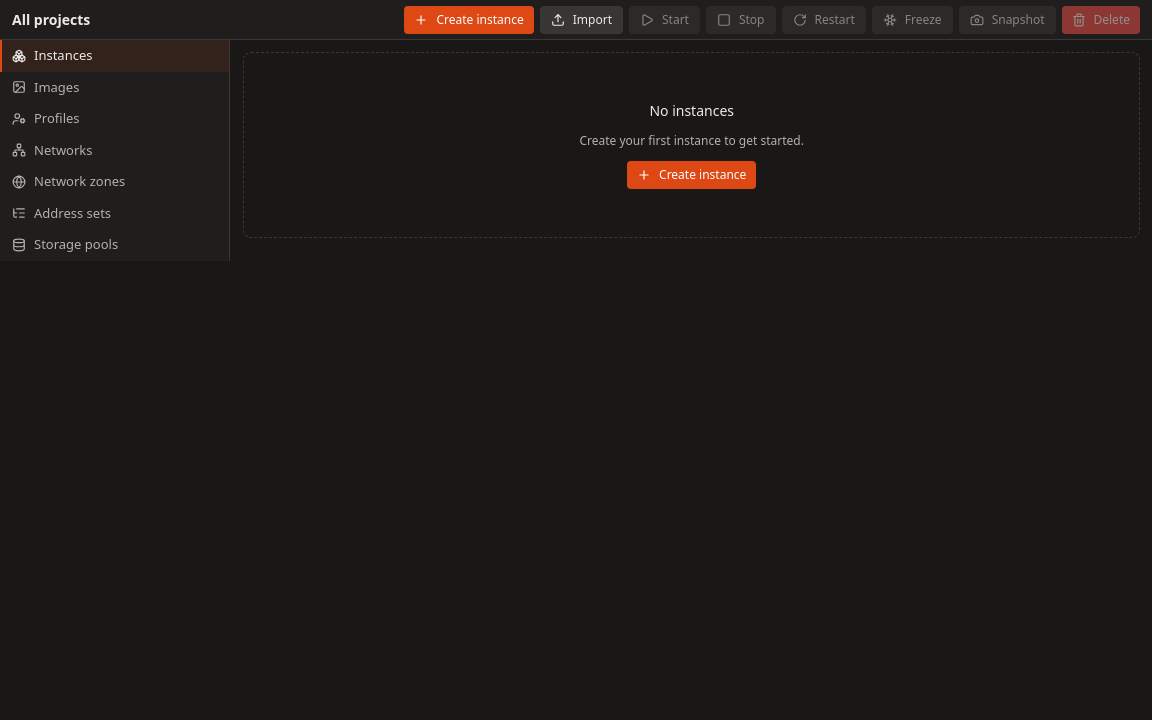
Test: ProjectOverview › opens the create wizard from the header
Click the button with test id "action-create" at (469, 20), box [404,6,534,34]
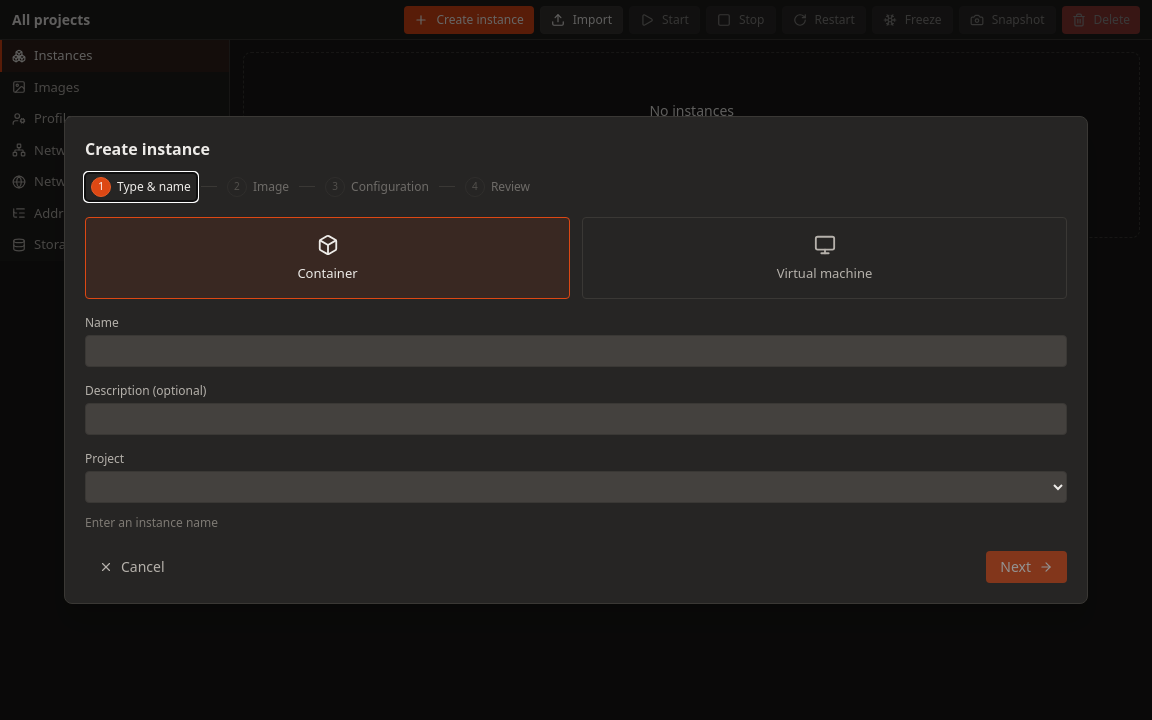
expect the dialog "Create instance" is shown: met
